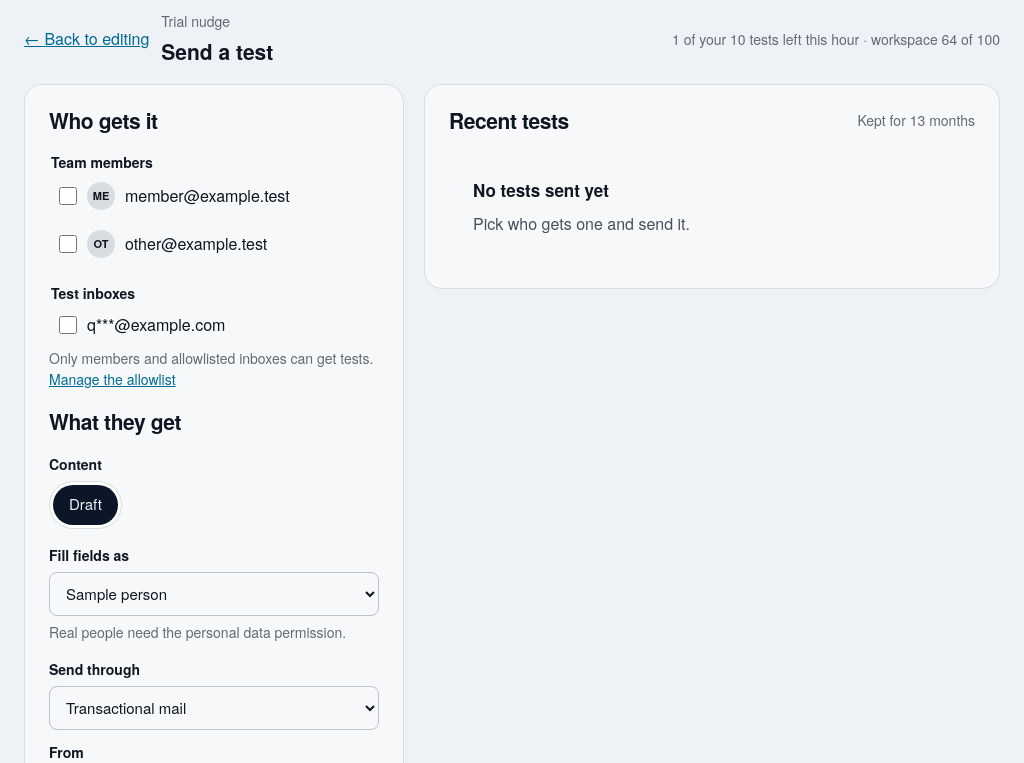
Scenario: the Send a test page › blocks a send that is more than the tests left this hour
Select "Transactional mail" in the dropdown labelled "Send through" at (214, 708), box top-left (49, 686), bottom-right (379, 730)
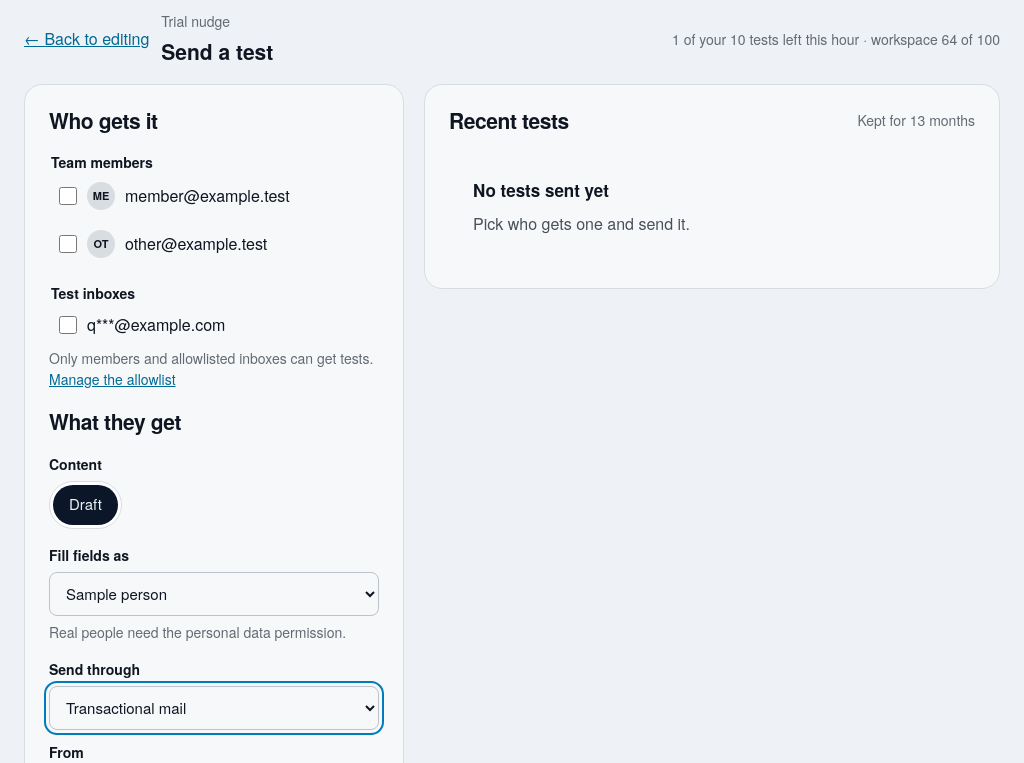
Click the checkbox labelled "member@example.test".
click(68, 196)  # box top-left (59, 187), bottom-right (77, 205)
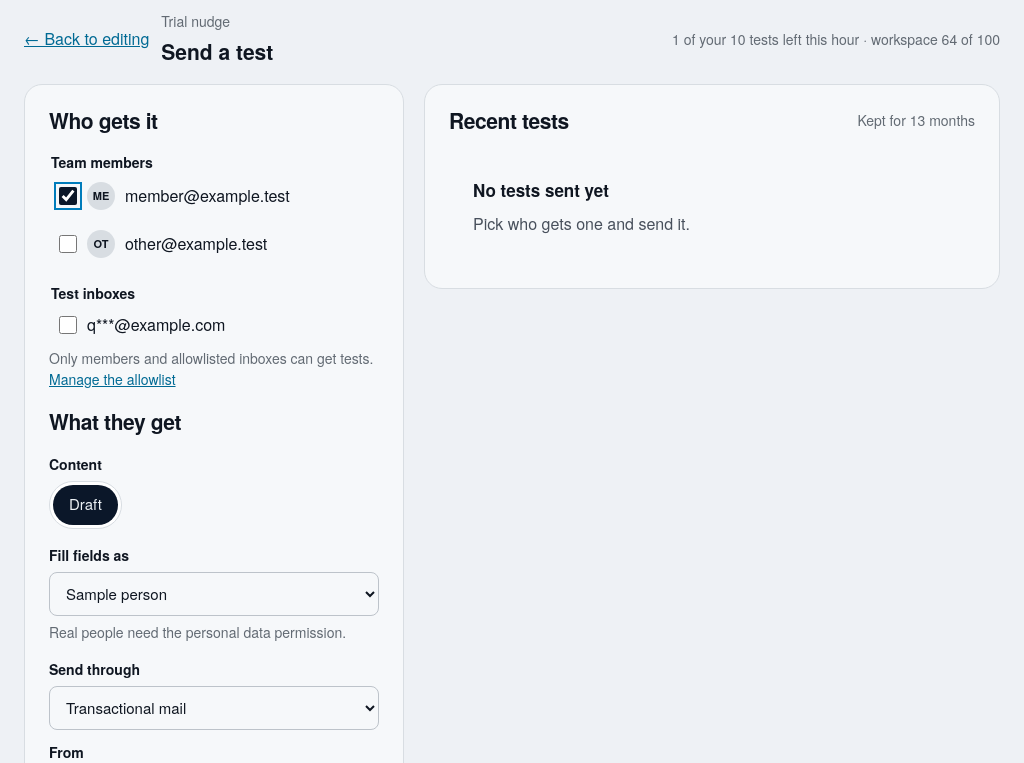
Click the checkbox labelled "other@example.test".
click(68, 244)  # box top-left (59, 235), bottom-right (77, 253)
(page scrolled)
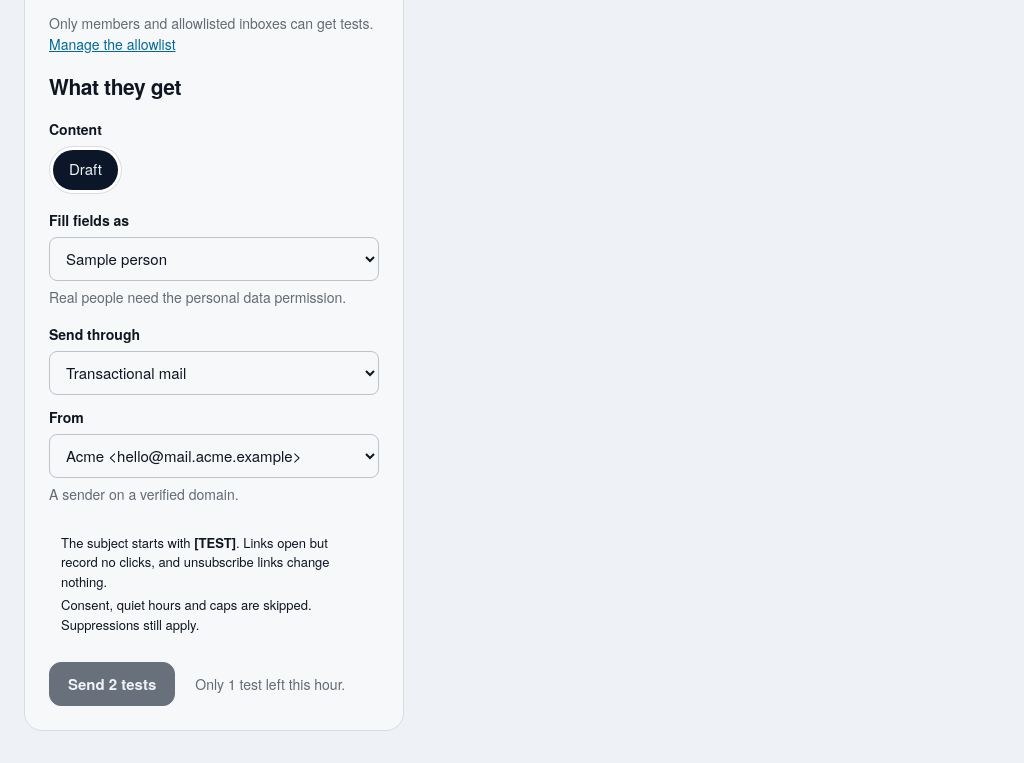
Now the button "Send 2 tests" is disabled, box top-left (49, 662), bottom-right (175, 706)
Now the text "Only 1 test left this hour." is shown, box top-left (195, 674), bottom-right (345, 694)
